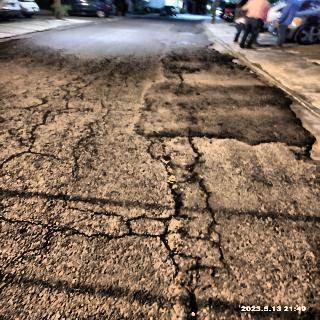alligator-crack: (0, 128, 220, 318), (0, 82, 131, 281)
